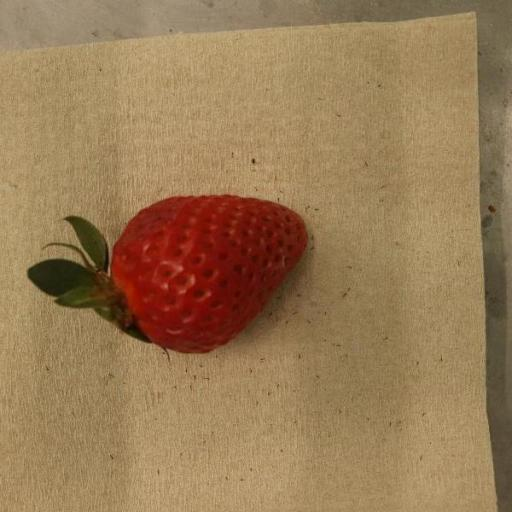Strawberry: (25, 195, 308, 355)
